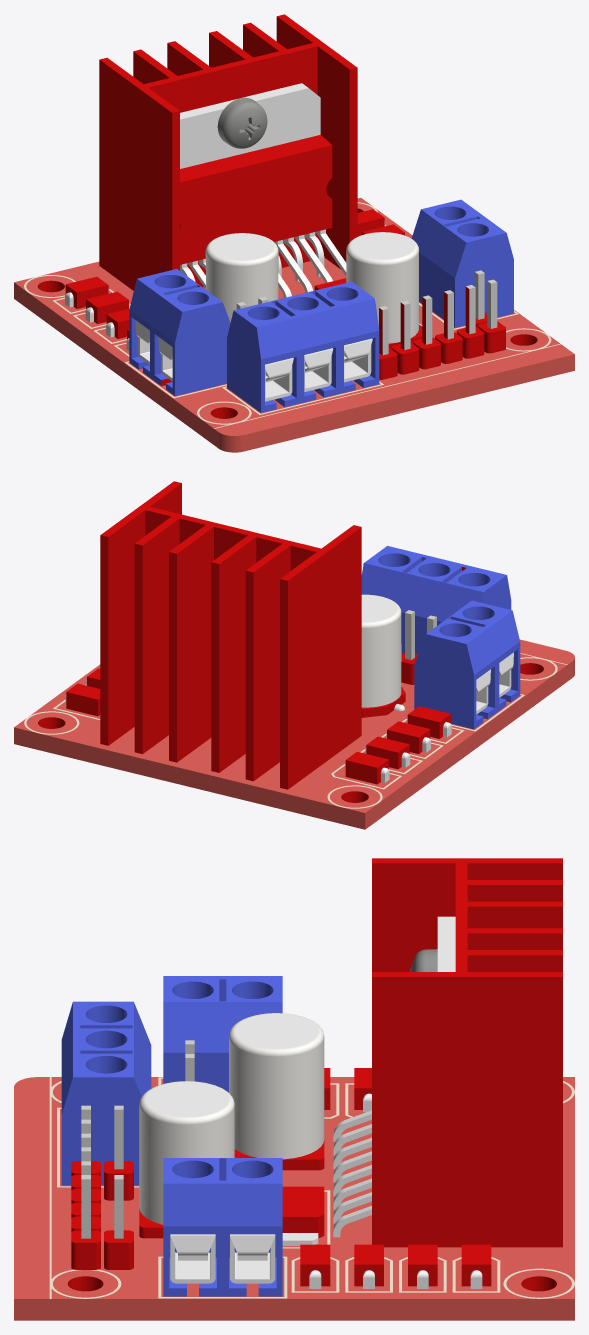
File: puenteh.glb
The picture shows the model from 3 angles, top to bottom: view 1: azimuth 30°, elevation 25°; view 2: azimuth 150°, elevation 25°; view 3: azimuth 270°, elevation 25°; orthographic projection. The views are drawn at different scales.
Visible parts, largest first — view 1: Body1, Body1.001; view 2: Body1; view 3: Body1.
Boxes of the visible parts, left/top/right/bottom form: Body1: left=14, top=14, right=574, bottom=452; Body1.001: left=217, top=97, right=267, bottom=148; Body1: left=14, top=481, right=574, bottom=829; Body1: left=14, top=858, right=574, bottom=1320.
Bounding box in the file's own units: 0.044 × 0.027 × 0.047.
